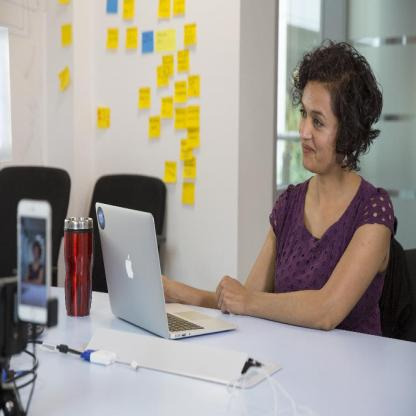board: (96, 200, 236, 340), (63, 217, 97, 316)
